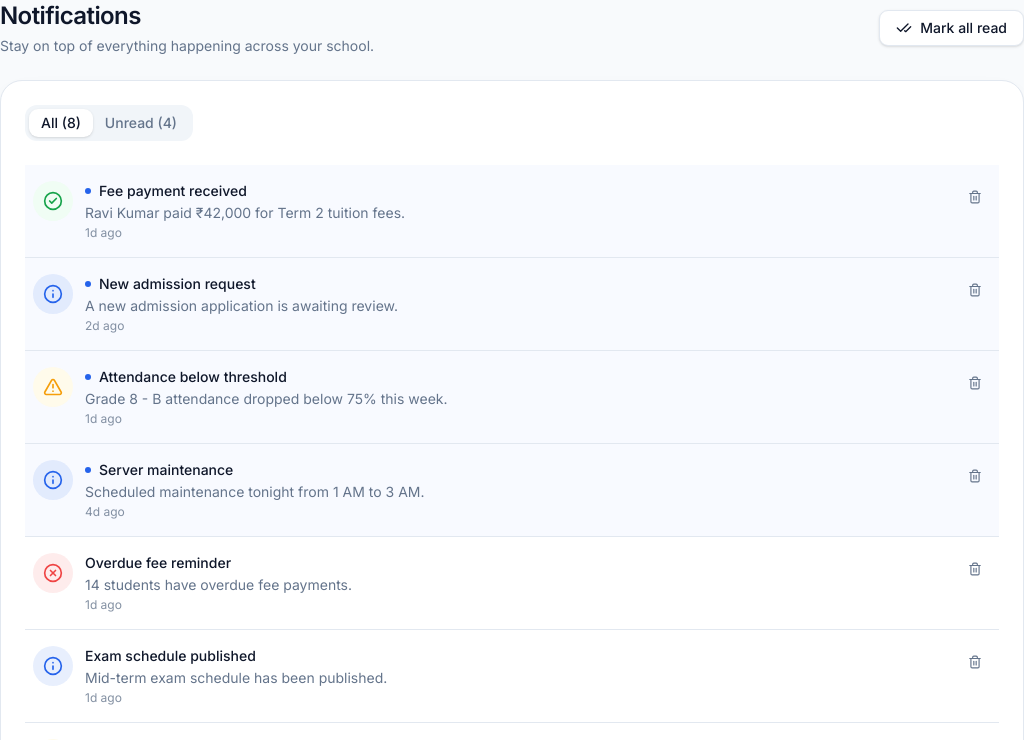
NotificationsPage › deletes a notification when the delete confirmation is accepted
What coordinates should you click on to do the following:
click the button without text in the row of "Fee payment received"
I would click on:
 (975, 197)
Its box is [959,181,991,213].
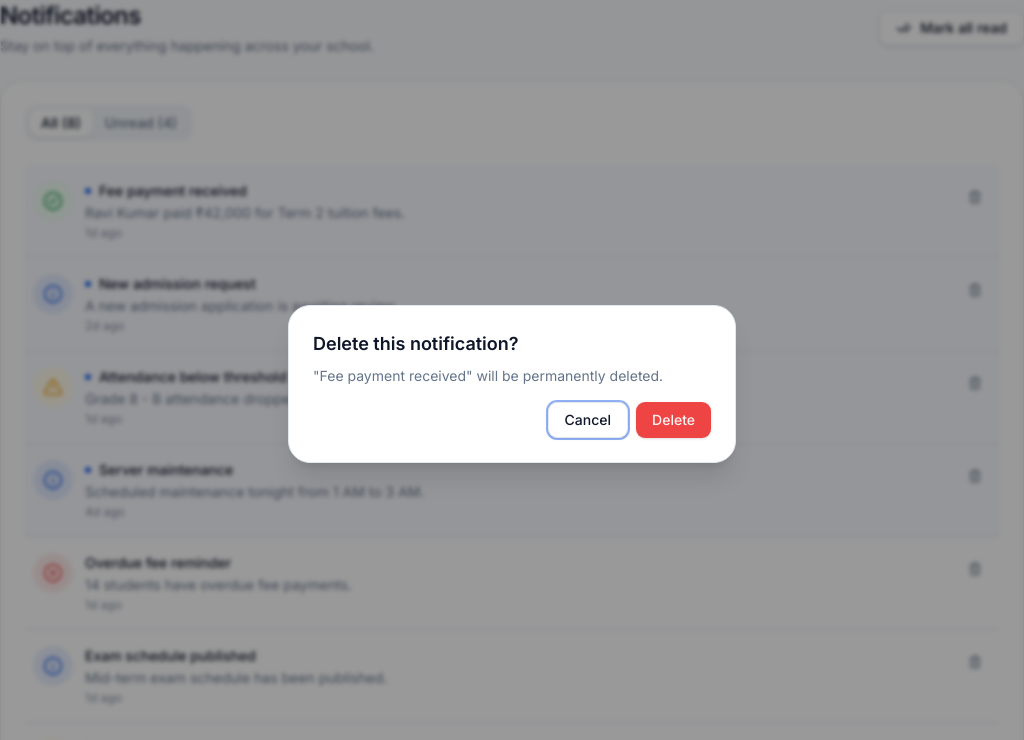
What coordinates should you click on to do the following:
click the button "Delete"
I would click on:
 (674, 420)
Its box is [636,402,711,438].
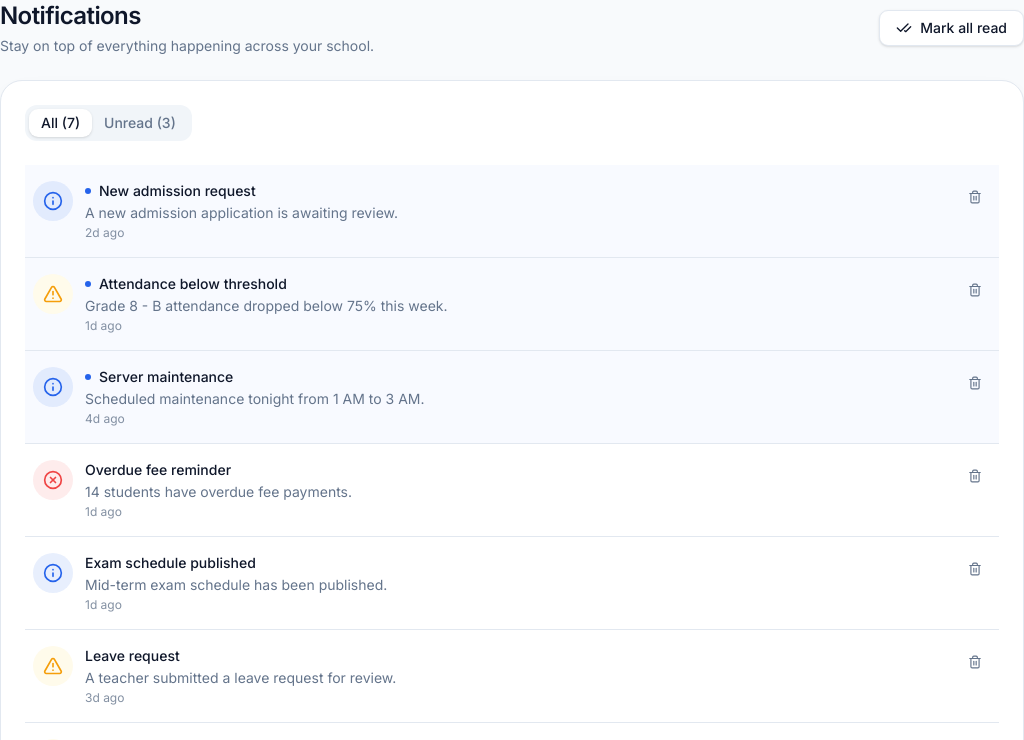
Check: the text "Fee payment received" is gone
